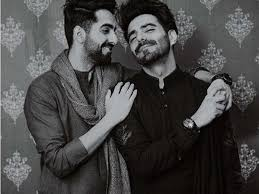Bad: (24, 1, 243, 193)
